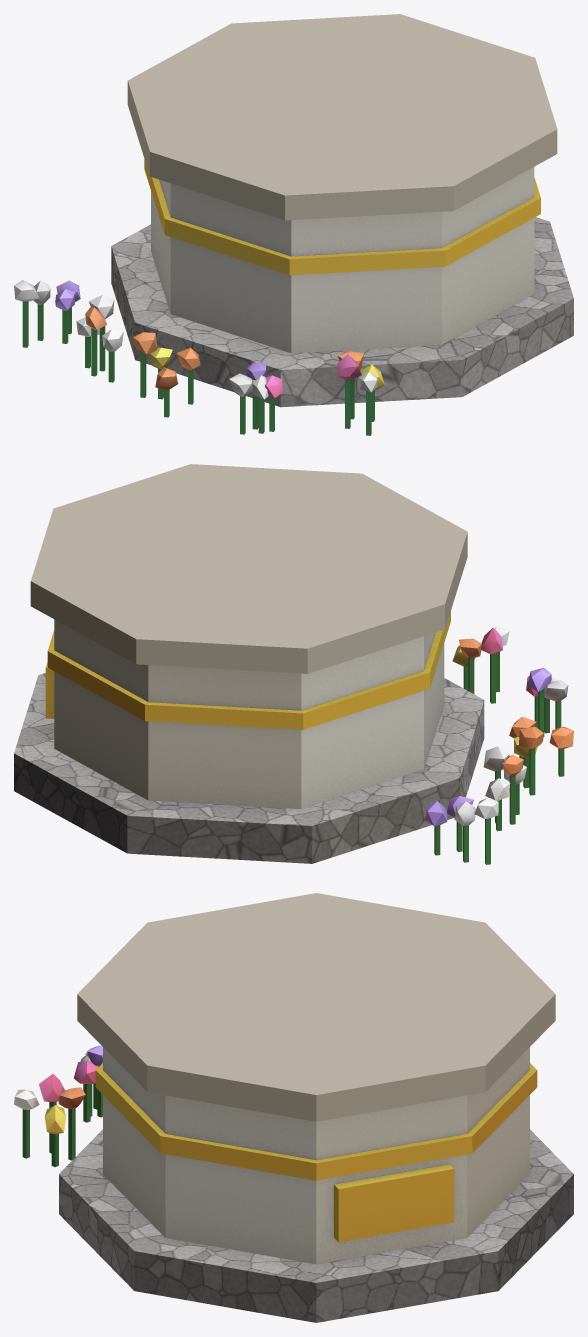
Rendered from hub_plinth.fbx.
3 views of the same model, one above another, from view 1: azimuth 30°, elevation 25°; view 2: azimuth 150°, elevation 25°; view 3: azimuth 270°, elevation 25° (orthographic). The views are drawn at different scales.
Parts seen in each view (by area): view 1: hub_plinth_body; view 2: hub_plinth_body; view 3: hub_plinth_body.
Boxes of the visible parts, x1,y1,x2,y2 form: hub_plinth_body: (14, 14, 573, 435); hub_plinth_body: (14, 464, 573, 864); hub_plinth_body: (14, 893, 573, 1322).
Bounding box in the file's own units: 833 × 330 × 761.
Materials: 1 (1 with a texture image).
